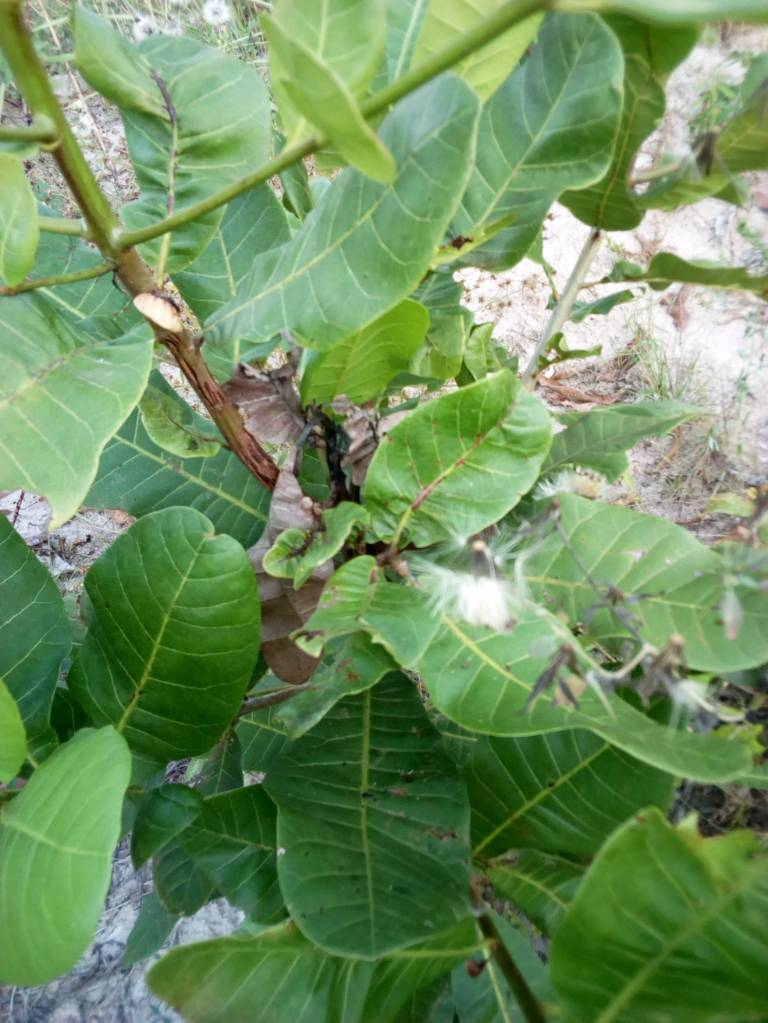Dessèchement des bourgeons: (235, 366, 369, 488), (550, 610, 667, 727)
